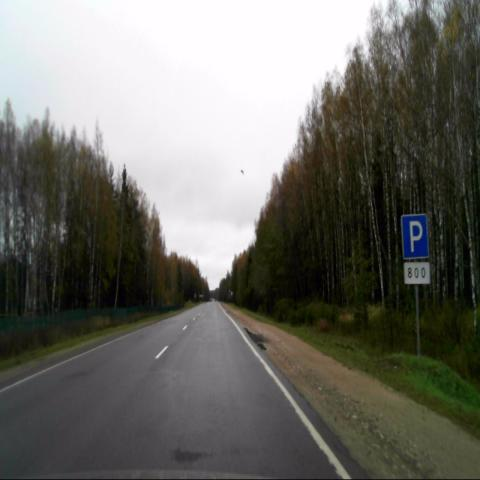6_4: (401, 214, 429, 260)
